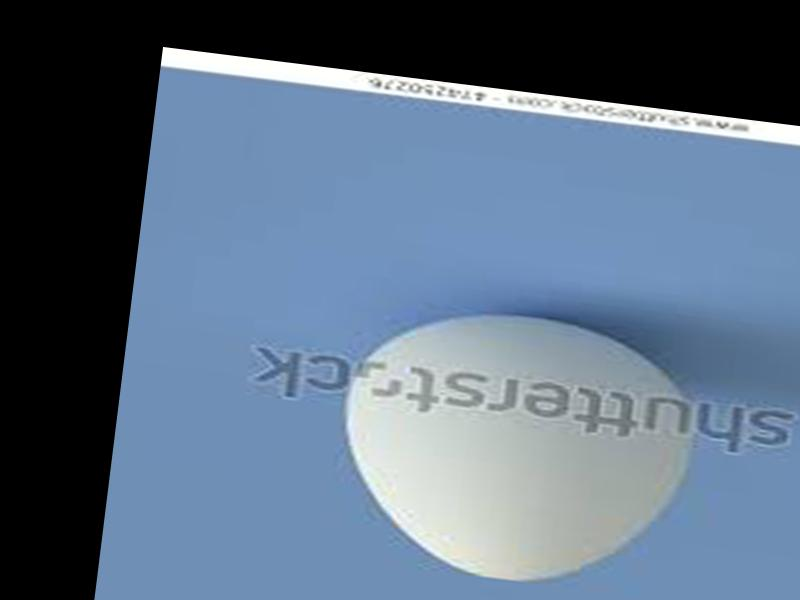Eggs: (326, 293, 705, 599)
